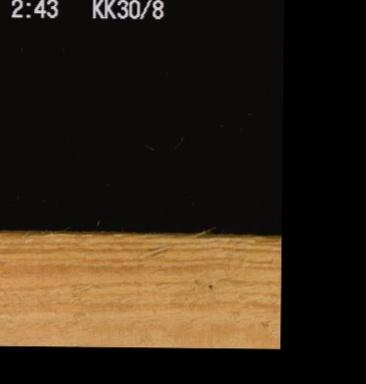small_knot: (199, 273, 219, 292)
